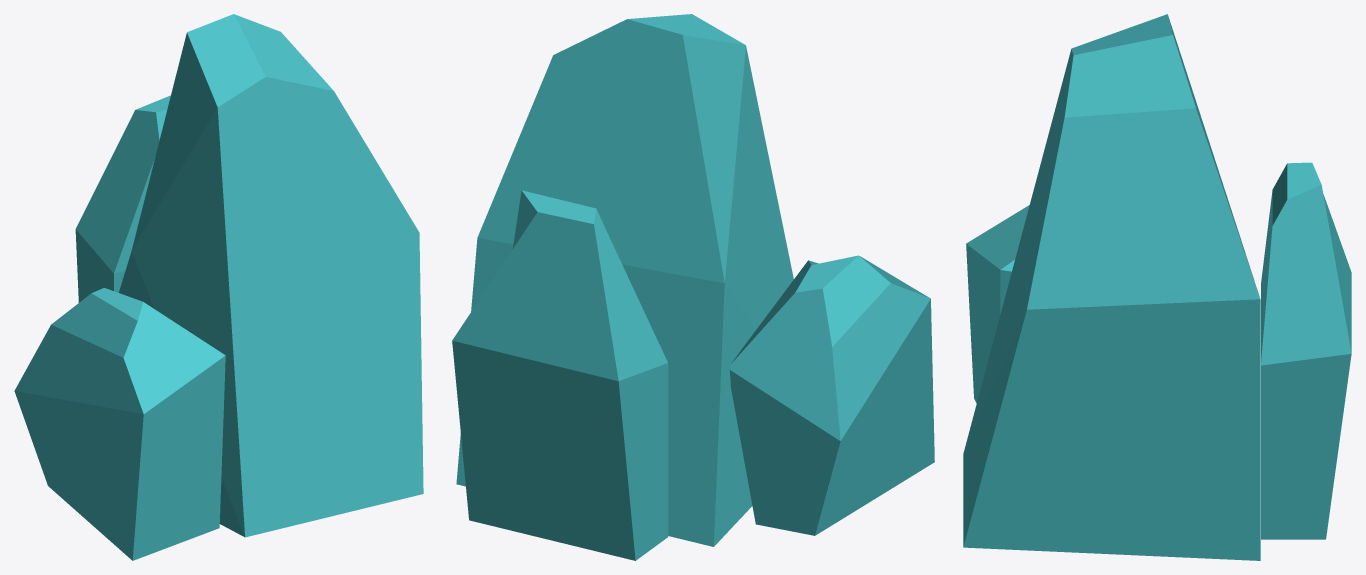
File: Rock_01.fbx
3 renders of one model, left to right at view 1: azimuth 30°, elevation 25°; view 2: azimuth 150°, elevation 25°; view 3: azimuth 270°, elevation 25°, orthographic. The views are drawn at different scales.
Parts seen in each view (by area): view 1: Rock.001, Rock.002, Rock; view 2: Rock.001, Rock, Rock.002; view 3: Rock.001, Rock, Rock.002.
Part boxes in pixels (<box>): Rock.001: <box>118,14,423,537</box>; Rock.002: <box>14,288,225,560</box>; Rock: <box>75,95,170,302</box>; Rock.001: <box>456,14,793,546</box>; Rock: <box>452,190,668,560</box>; Rock.002: <box>729,255,934,535</box>; Rock.001: <box>963,14,1260,560</box>; Rock: <box>1261,162,1351,539</box>; Rock.002: <box>966,205,1029,403</box>.
Size of the model in its own units: 0.3362 by 0.4248 by 0.3215.
